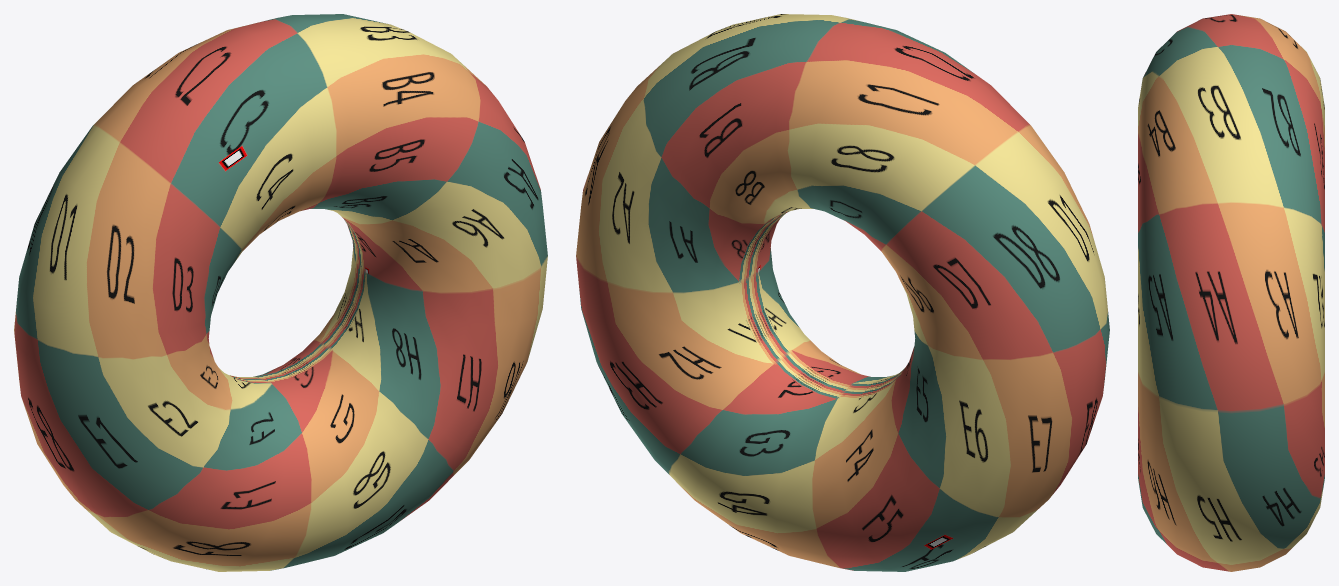
Rendered from no_snap_uv_checkerboard_res_1024_iter_1_period_3_map.glb.
The picture shows the model from 3 angles, left to right: view 1: azimuth 30°, elevation 25°; view 2: azimuth 150°, elevation 25°; view 3: azimuth 270°, elevation 25°; orthographic projection. The views are drawn at different scales.
Visible parts, largest first — view 1: Node; view 2: Node; view 3: Node.
Boxes of the visible parts, x1=… form: Node: x1=14, y1=14, x2=547, y2=571; Node: x1=576, y1=14, x2=1109, y2=571; Node: x1=1138, y1=14, x2=1324, y2=571.
Bounding box in the file's own units: 3 × 2.98 × 1.
1 material, 1 textured.
